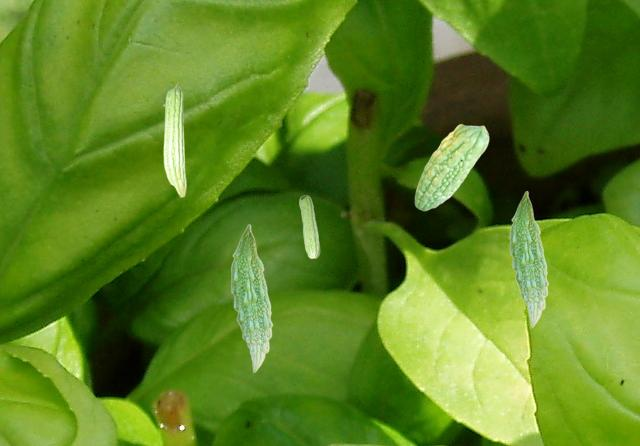ampalaya: (414, 123, 489, 211), (230, 223, 273, 373), (509, 190, 549, 328), (163, 82, 186, 198), (298, 194, 320, 259)
